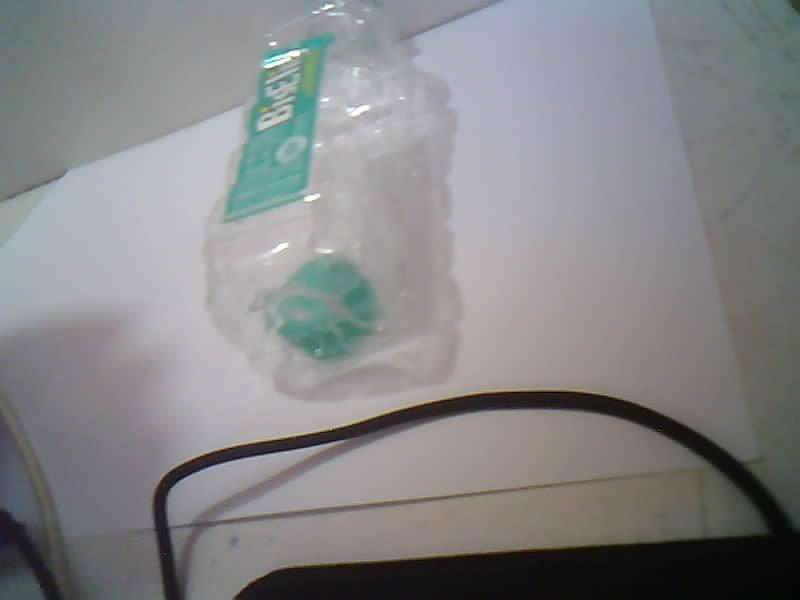non-biodegradable: (204, 0, 452, 391)
